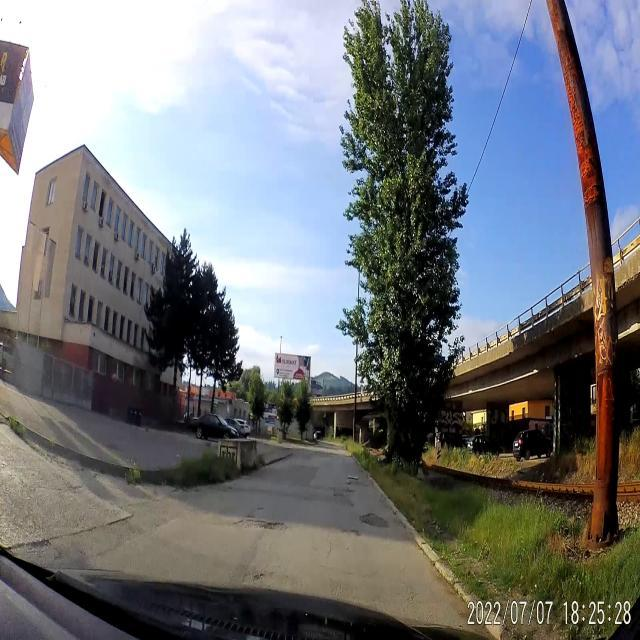Manhole: (347, 470, 360, 480)
Pothole: (232, 508, 288, 534), (360, 508, 390, 536), (334, 480, 356, 506)
